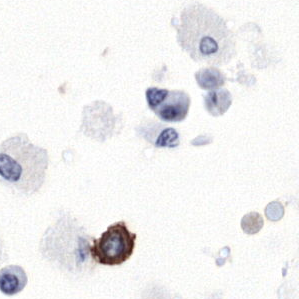Lymphocyte: (92, 222, 137, 265)
